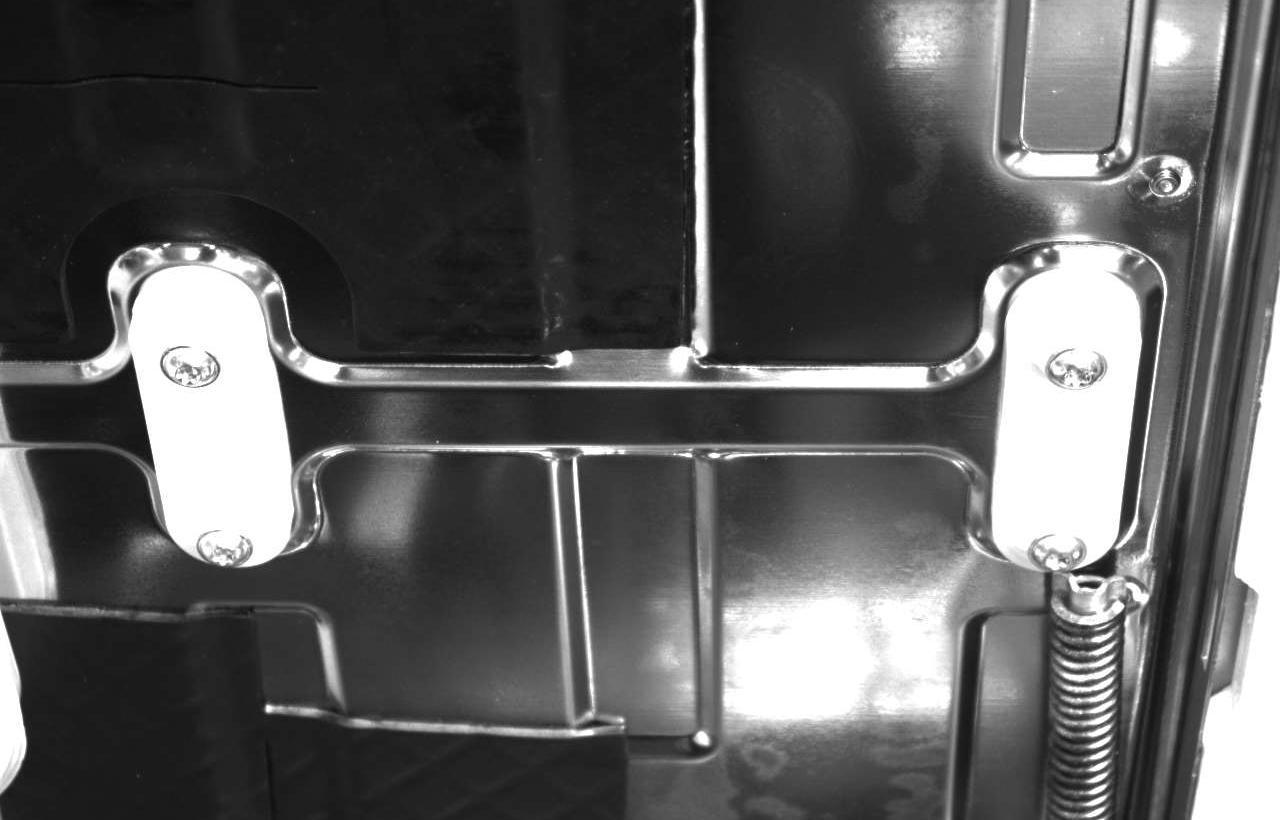vida-ok: (151, 329, 237, 407), (1036, 336, 1124, 408), (183, 514, 264, 578), (1025, 520, 1100, 578)
